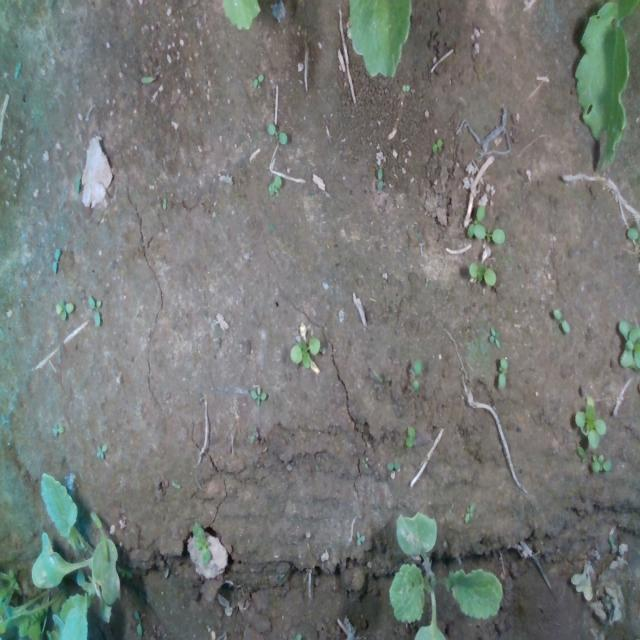weed: (290, 335, 320, 369), (468, 260, 496, 286), (266, 120, 288, 145), (53, 296, 75, 320), (552, 307, 571, 333), (87, 294, 101, 328), (408, 358, 421, 390), (250, 385, 268, 406), (497, 355, 507, 391), (266, 174, 282, 195), (488, 323, 500, 348), (51, 246, 61, 275), (464, 500, 476, 522), (405, 424, 415, 446), (252, 72, 264, 87), (96, 443, 108, 457), (52, 422, 64, 436), (377, 165, 383, 192), (384, 460, 400, 470), (431, 138, 443, 151), (355, 530, 365, 545)
